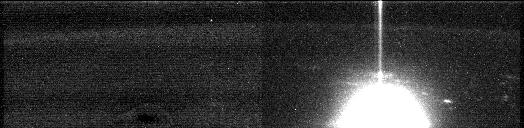positive: (364, 69, 397, 81)
